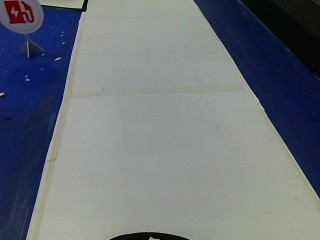battery: (0, 0, 40, 31)
